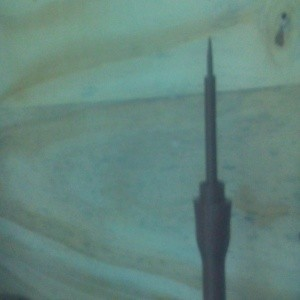solder: (193, 35, 233, 300)
